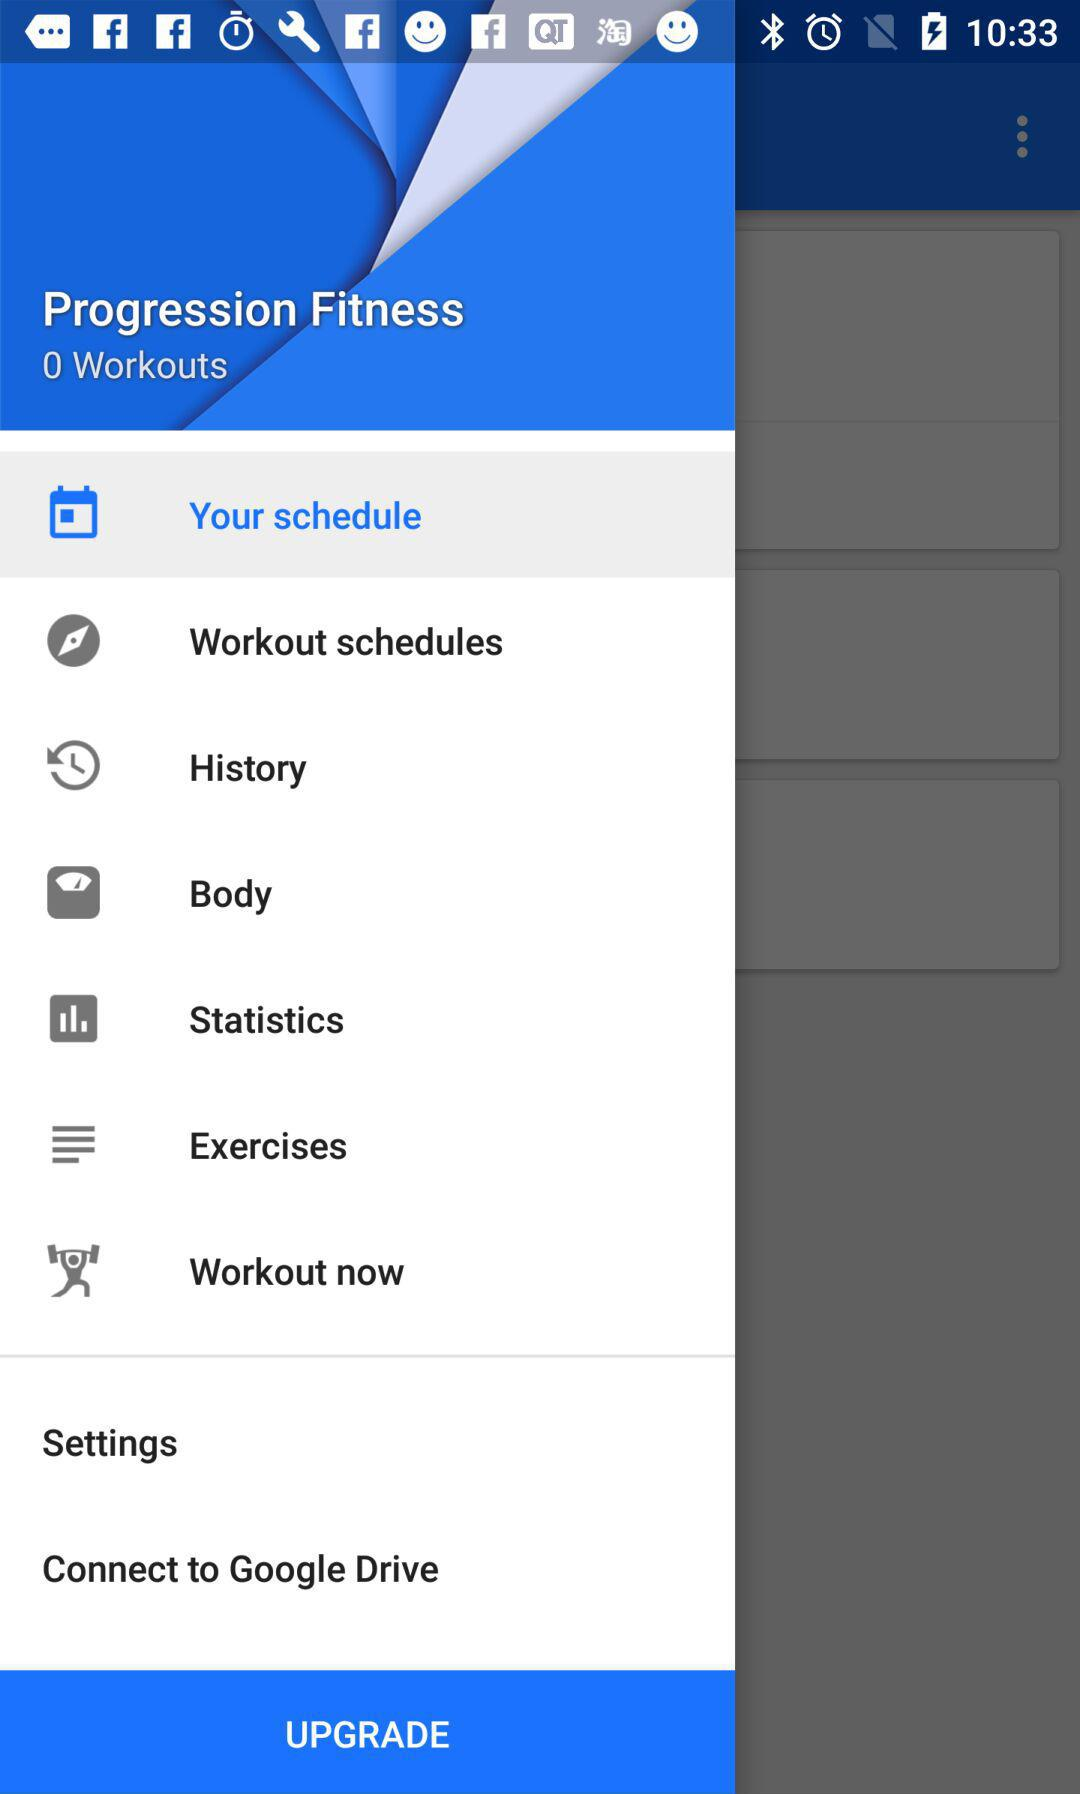Drawer: (1, 64, 735, 1794)
Icon: (47, 614, 102, 668), (46, 739, 102, 792), (50, 484, 99, 539), (50, 994, 99, 1044), (53, 1125, 97, 1165), (1015, 117, 1029, 161)
Image: (47, 1243, 102, 1298), (47, 866, 102, 920)
Text: (44, 290, 465, 338), (44, 1553, 439, 1592), (190, 627, 503, 657), (190, 500, 423, 532), (188, 1256, 407, 1288), (44, 347, 229, 384), (41, 1428, 179, 1465), (191, 1130, 348, 1161), (190, 1005, 345, 1035), (191, 753, 307, 791), (190, 878, 274, 918)
TextButton: (1, 1670, 735, 1794)
UpperTaskBar: (1, 1, 1080, 64)
